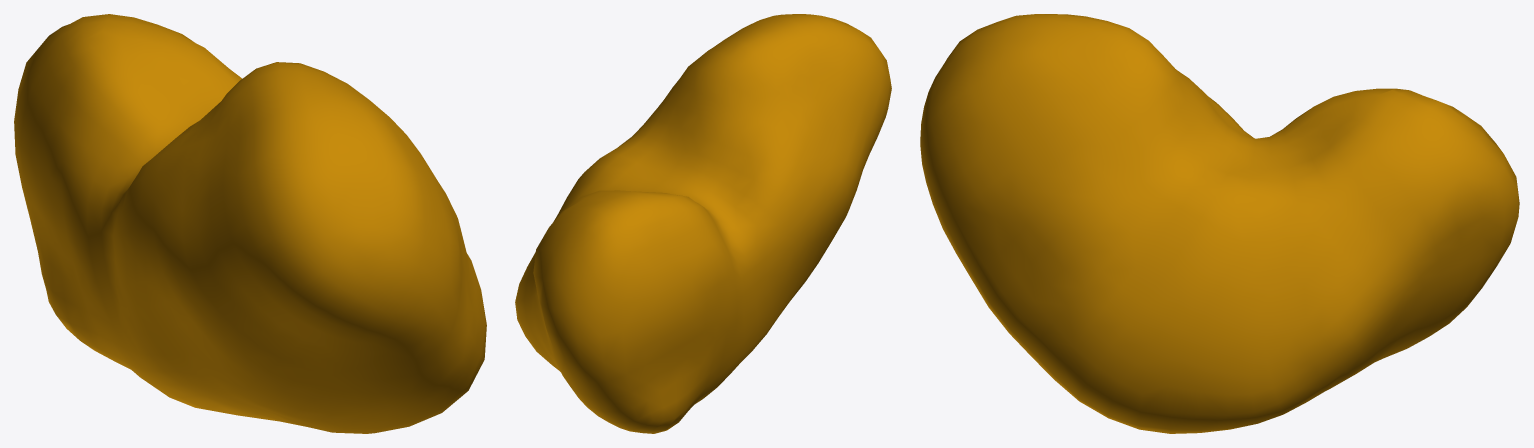
The model's file is Kidney_Cortex_Left.FBX.
The picture shows the model from 3 angles, left to right: view 1: azimuth 30°, elevation 25°; view 2: azimuth 150°, elevation 25°; view 3: azimuth 270°, elevation 25°; orthographic projection. The views are drawn at different scales.
Visible parts, largest first — view 1: Kidney_Cortex_Left-Snapshot; view 2: Kidney_Cortex_Left-Snapshot; view 3: Kidney_Cortex_Left-Snapshot.
Part boxes in pixels (x1,y1,x2,y2): Kidney_Cortex_Left-Snapshot: (14, 14, 486, 433); Kidney_Cortex_Left-Snapshot: (515, 14, 891, 433); Kidney_Cortex_Left-Snapshot: (920, 14, 1519, 433).
Size of the model in its own units: 51.98 by 63.55 by 97.17.
